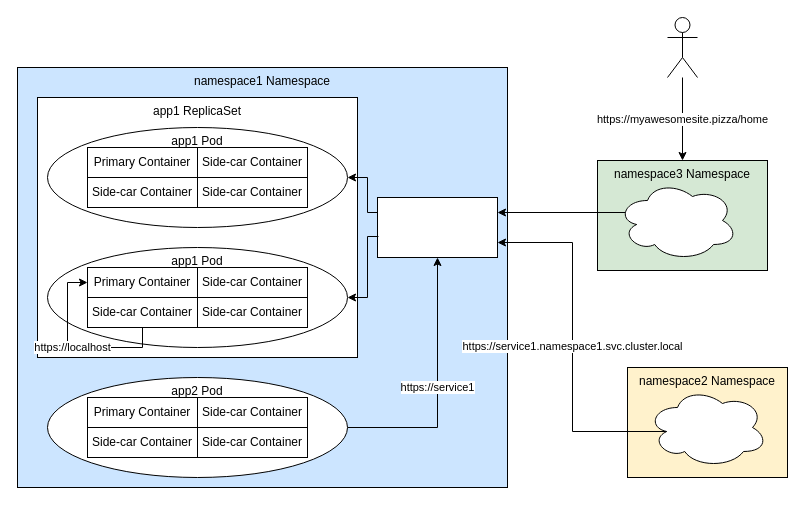
Some shapes in this 805 by 505 pixel diagram are drawn without their labels. The shapes that lost their labels are listed below. From the top down, each one's centre as x and y in pixels, then its label:
[682,47]: Outside World
[437,227]: service1 Service
[677,220]: Ingress Controller
[707,427]: Pods
